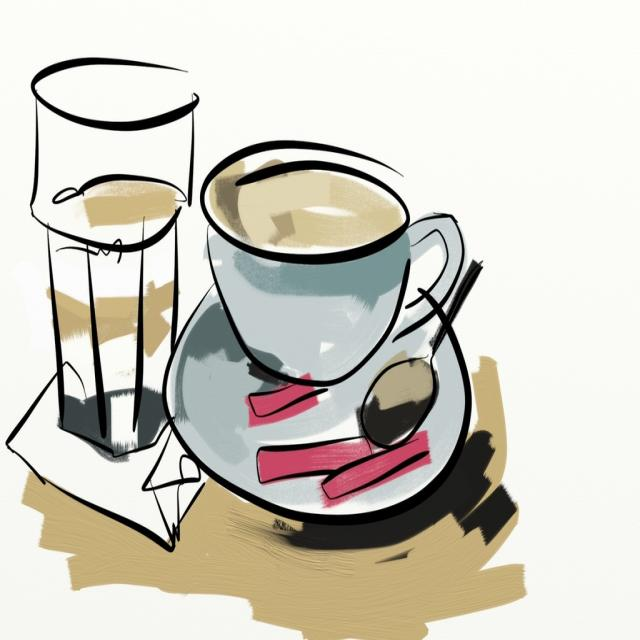Coffee: (190, 169, 442, 374)
Tea: (205, 161, 401, 256)
